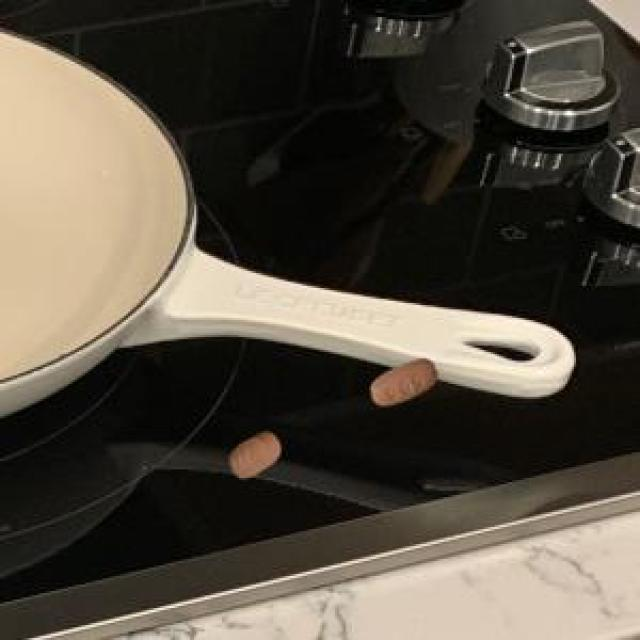Biogesic: (362, 351, 445, 432), (209, 420, 288, 491)
